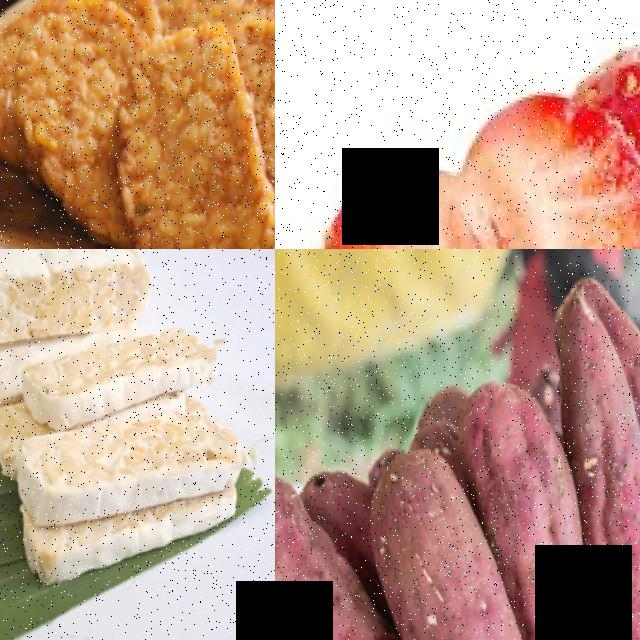strawberry: (288, 107, 640, 249)
sweet potato: (440, 372, 599, 607), (356, 439, 494, 640), (538, 286, 640, 460), (275, 465, 356, 640)
tempeh: (108, 17, 267, 249), (0, 0, 141, 239), (11, 395, 241, 540), (13, 313, 210, 436), (0, 249, 149, 353)
